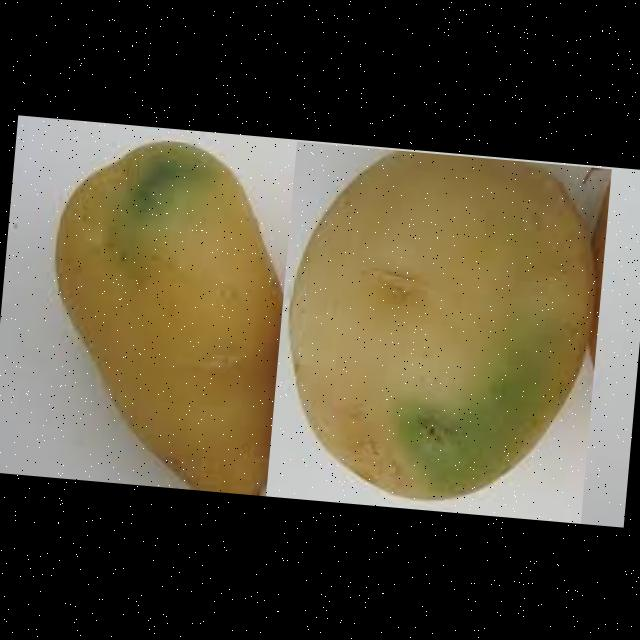Defected potato: (264, 140, 610, 522), (27, 130, 316, 497)
